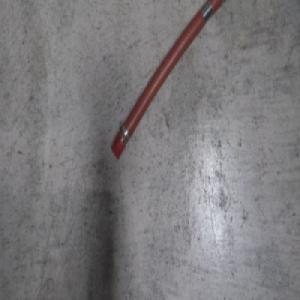Hose: (109, 0, 231, 162)
